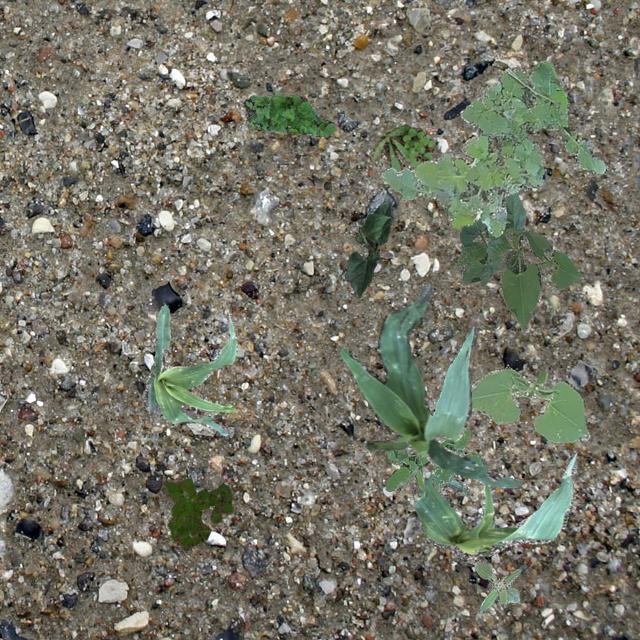crop: (338, 284, 522, 488), (454, 190, 580, 330), (414, 452, 576, 558), (144, 304, 236, 434), (469, 367, 588, 442), (344, 198, 390, 298)
weed: (380, 61, 606, 236), (384, 428, 486, 492), (160, 478, 232, 548), (242, 92, 334, 136), (368, 124, 434, 170), (474, 560, 520, 612)
